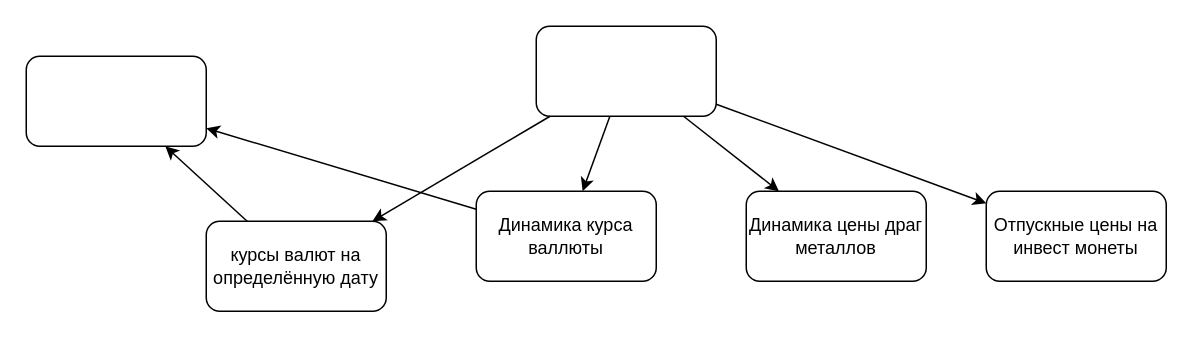
Some shapes in this 1193 by 338 pixel diagram are drawn without their labels. The centre of each missing label's shape, as x and y in pixels:
основное приложение: (x=625, y=70)
Справочник по валютам: (x=115, y=100)
